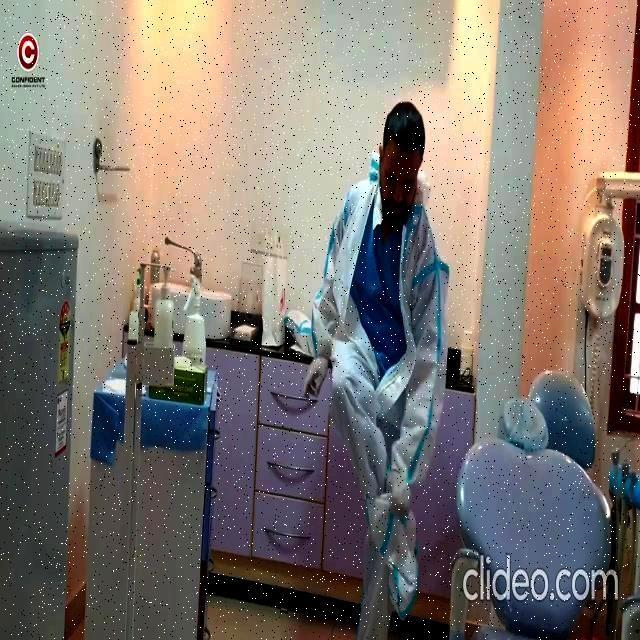apron: (388, 468, 422, 516), (300, 356, 332, 402)
no_gloves: (383, 98, 433, 158)
